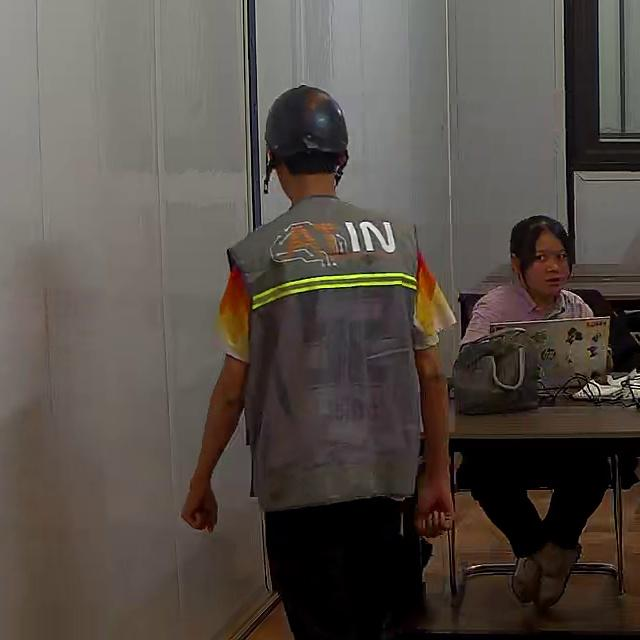helmet: (264, 83, 352, 164)
no_helmet: (509, 215, 571, 277)
none: (458, 281, 592, 349)
vest: (232, 206, 425, 508)
